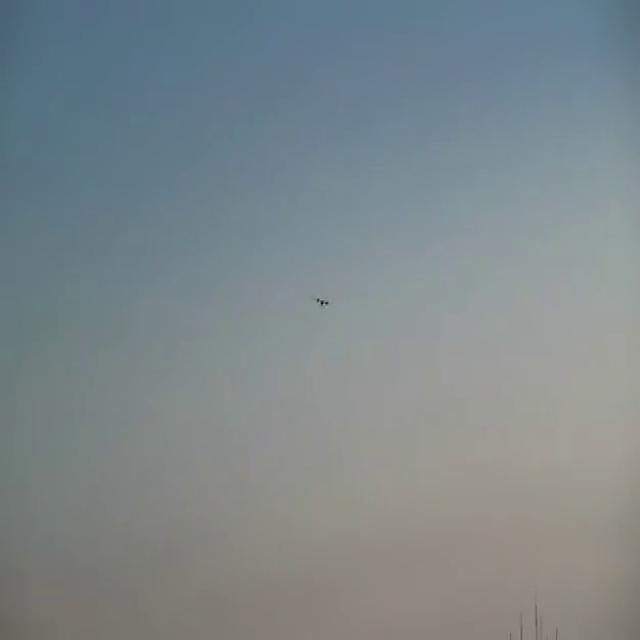iha: (313, 289, 334, 312)
